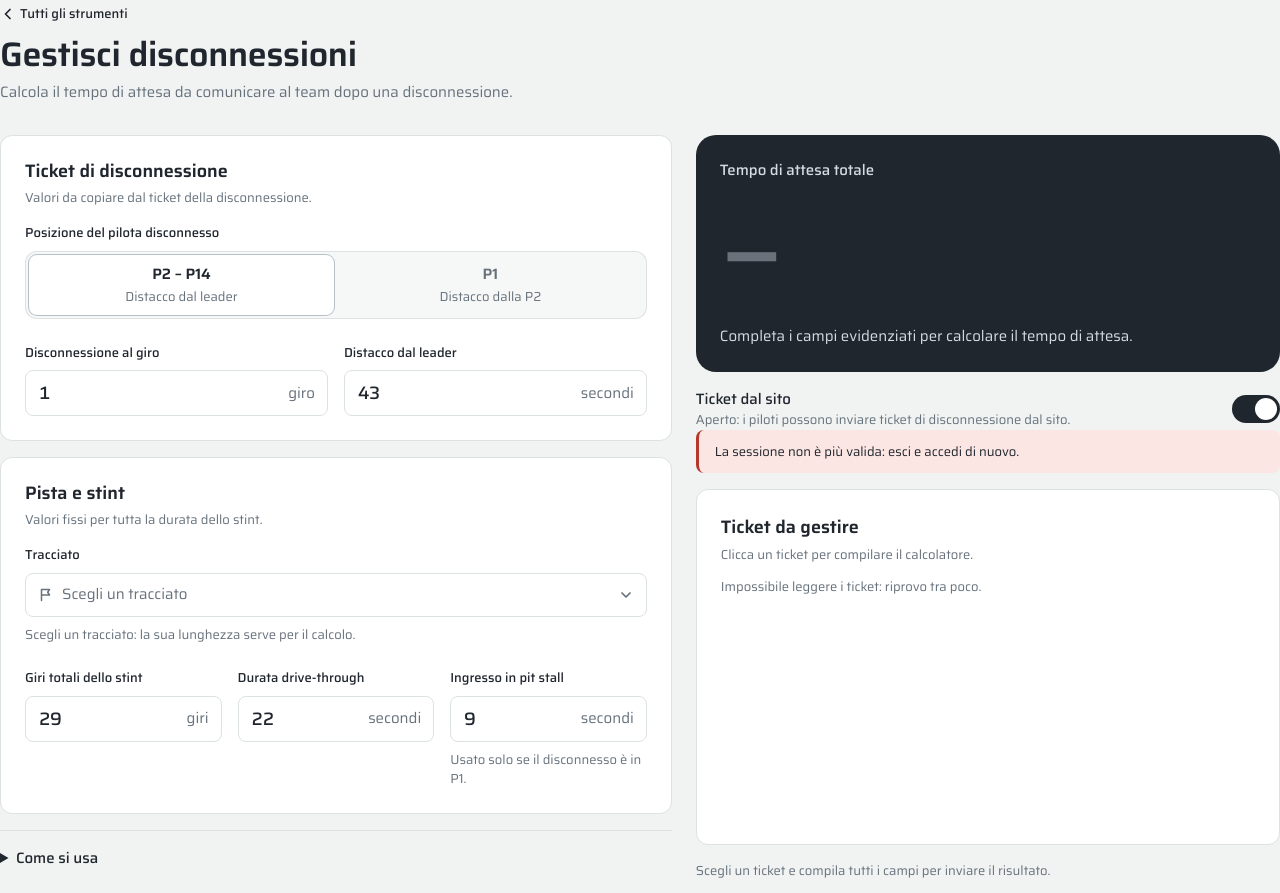
Scenario: <FieDisconnectionsCalculator /> › senza tracciato chiede di sceglierlo; poi usa la sua lunghezza (esempio del foglio, P2–P14)
Expected: the text "Scegli un tracciato: la sua lunghezza serve per il calcolo." is shown, 25,624 -> 355,645
Click the button "Scegli un tracciato". click: (125, 594)
box: 25,573 -> 647,617
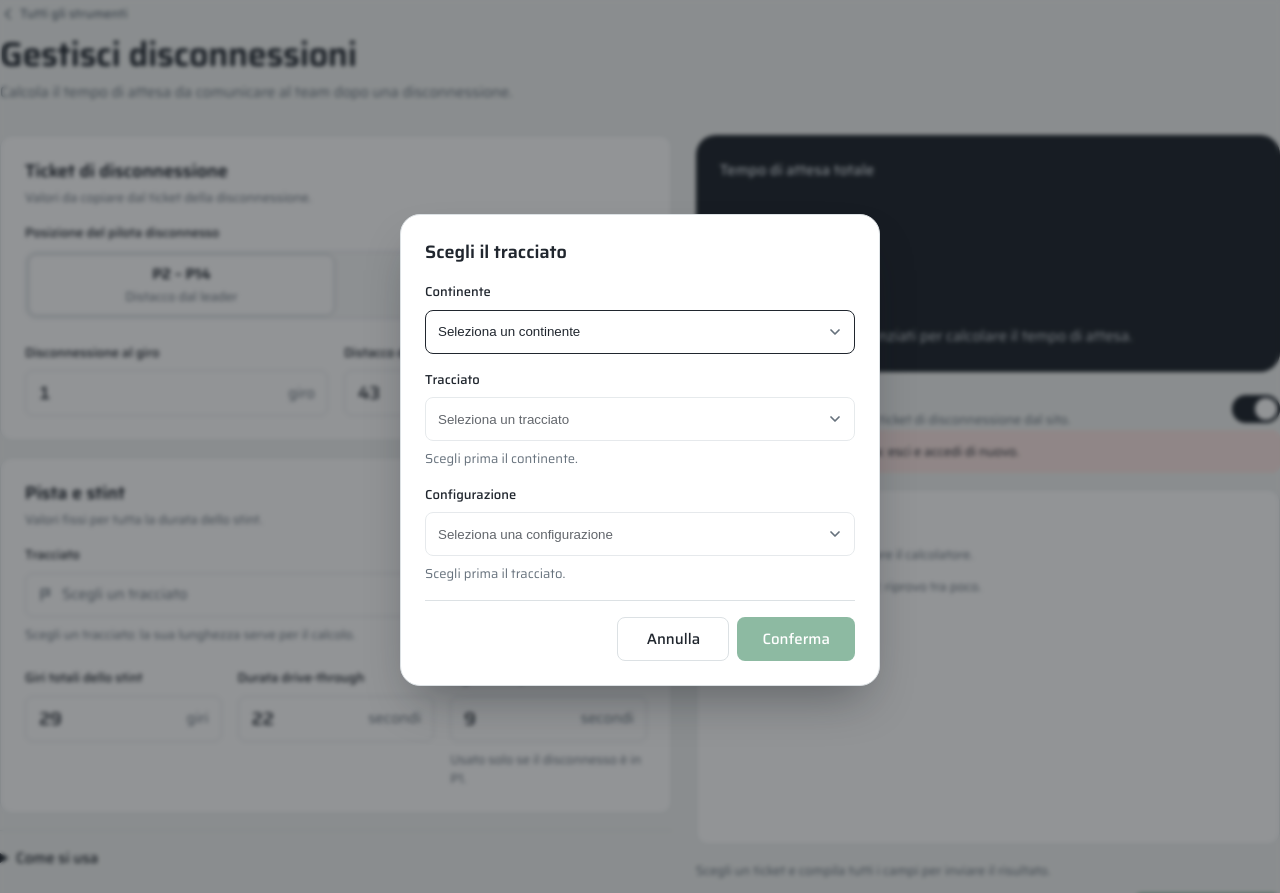
Select "Asia" in the dropdown labelled "Continente". click: (640, 332)
box: 425,310 -> 855,354
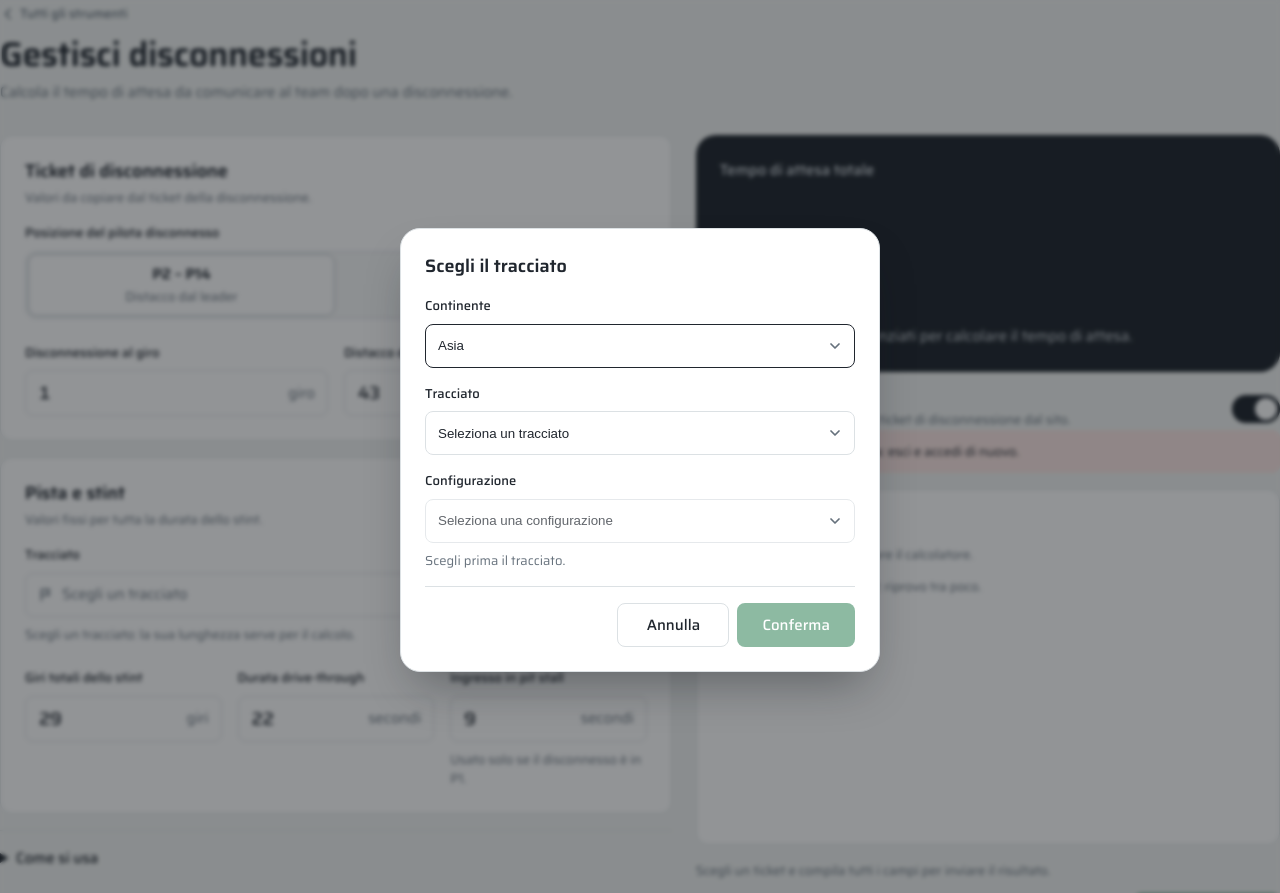
Select "Suzuka Circuit" in the dropdown labelled "Tracciato". click: (640, 433)
box: 425,411 -> 855,455
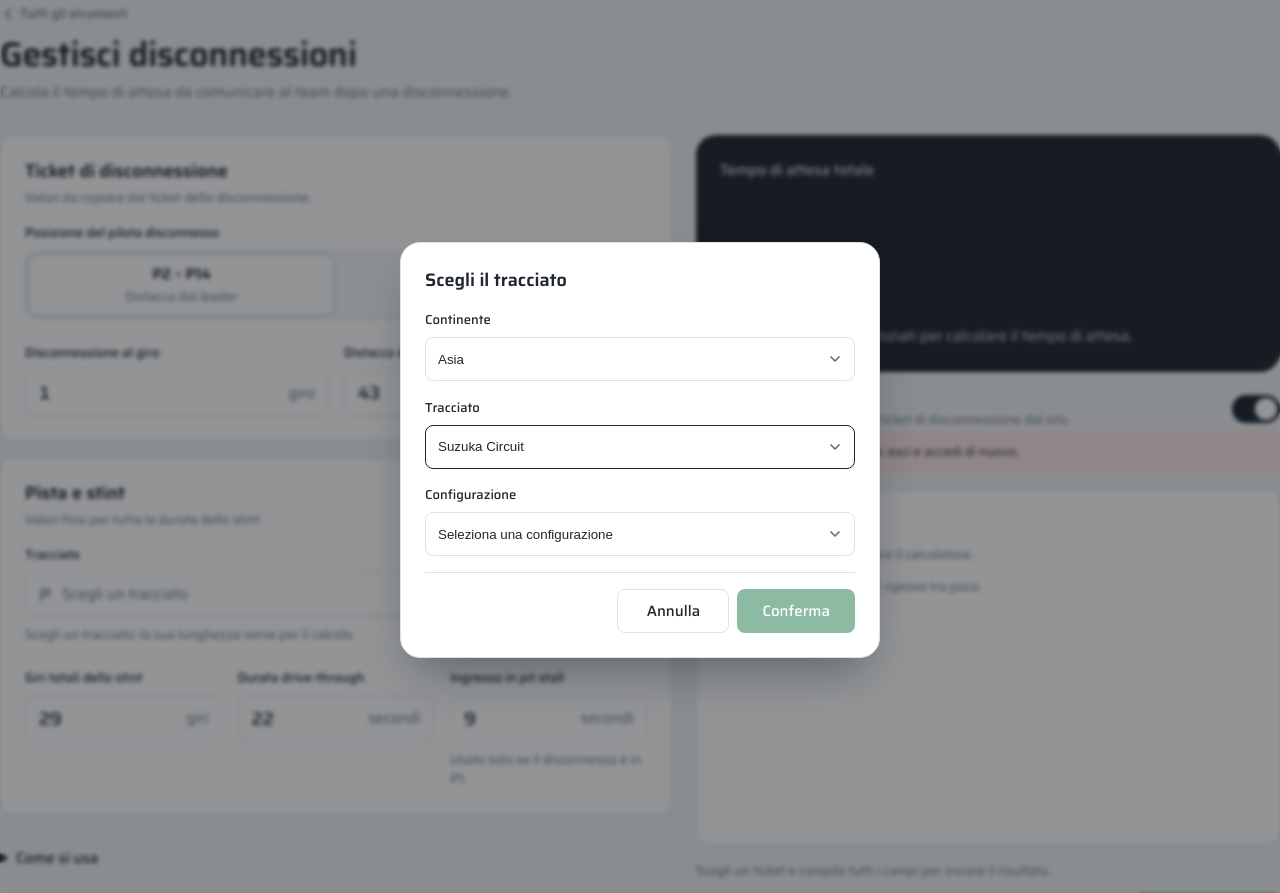
Select "Completo" in the dropdown labelled "Configurazione". click: (640, 534)
box: 425,512 -> 855,556
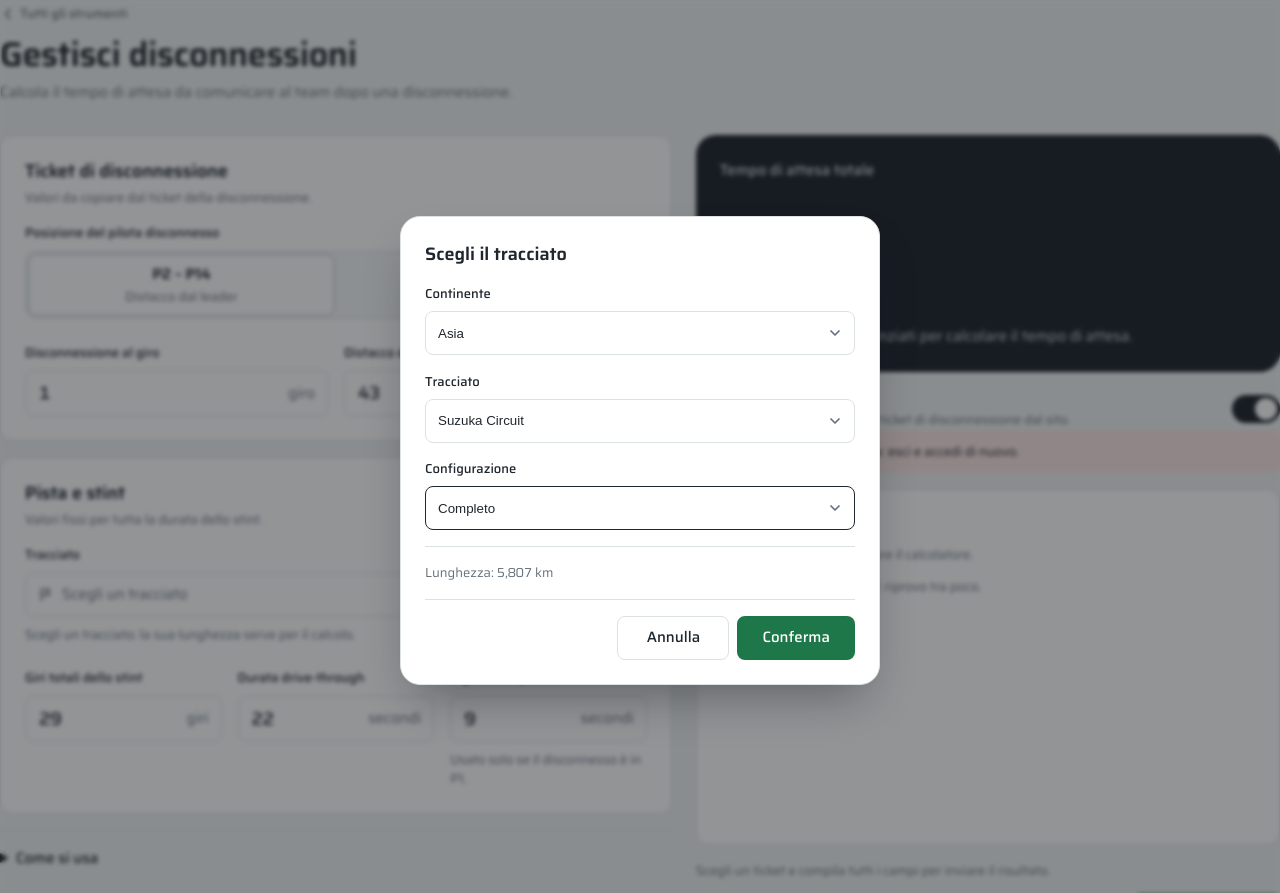
Click the button "Conferma". click: (796, 638)
box: 737,616 -> 855,660
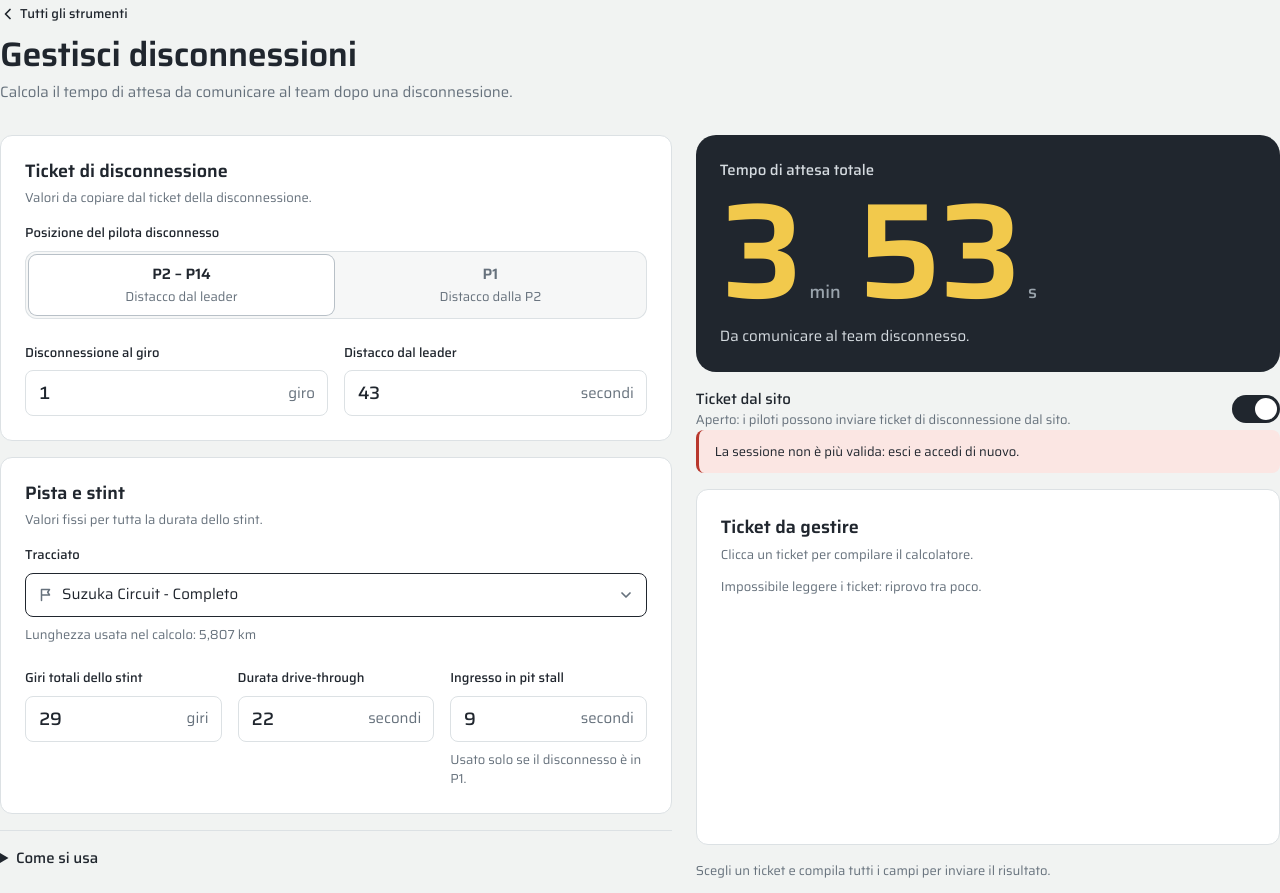
Now the button named "Tracciato" reads "Suzuka Circuit - Completo", box 25,573 -> 647,617
Now the text "Lunghezza usata nel calcolo: 5,807 km" is shown, box 25,624 -> 256,645
Now the element named "Tempo di attesa totale" reads "3 min 53 s", box 720,144 -> 1037,358
